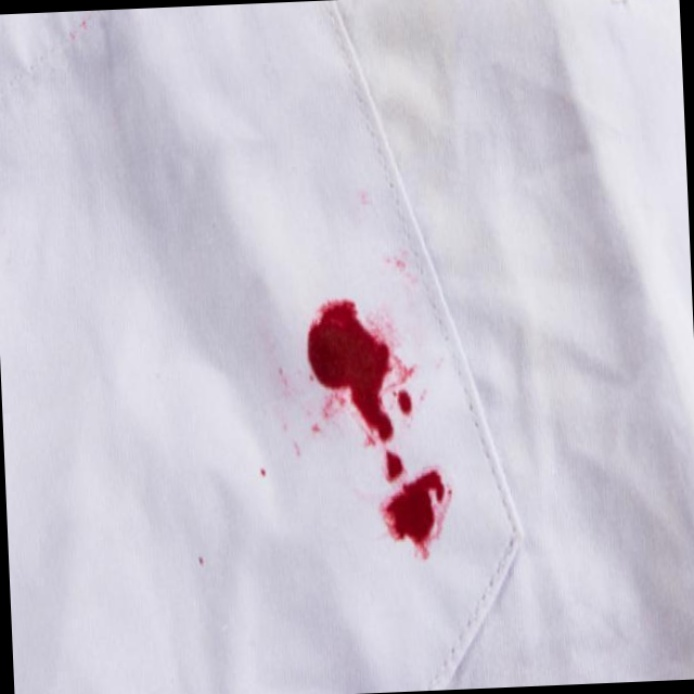blood: (302, 291, 424, 447), (379, 450, 450, 559)
